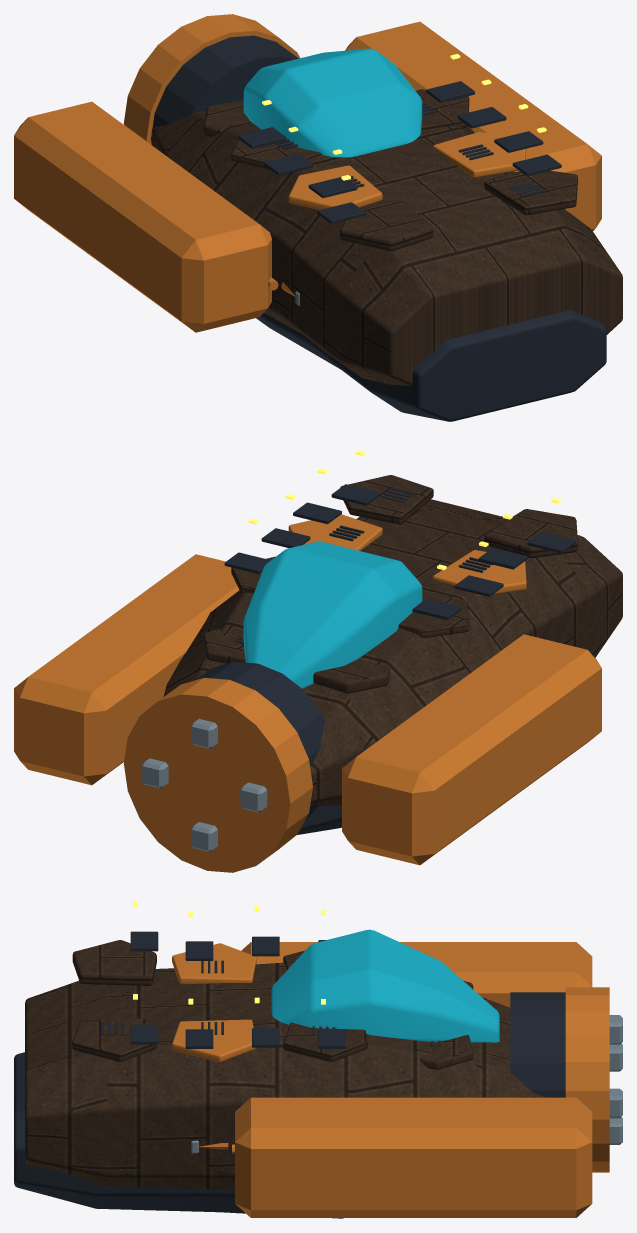
The model's file is titanforge.glb.
3 renders of one model, top to bottom at view 1: azimuth 30°, elevation 25°; view 2: azimuth 150°, elevation 25°; view 3: azimuth 270°, elevation 25°, orthographic. The views are drawn at different scales.
Parts seen in each view (by area): view 1: Gôndola do motor.055 · exportação, Coroa dentada · exportação, Cabeça escavadora · exportação, Cabine panorâmica.027 · exportação; view 2: Coroa dentada · exportação, Gôndola do motor.055 · exportação, Cabine panorâmica.027 · exportação, Cabeça escavadora · exportação, Dente de corte.003 · exportação; view 3: Coroa dentada · exportação, Gôndola do motor.055 · exportação, Cabine panorâmica.027 · exportação, Cabeça escavadora · exportação, Dente de corte.003 · exportação.
Part boxes in pixels (<box>): Gôndola do motor.055 · exportação: <box>151,89,622,385</box>; Coroa dentada · exportação: <box>14,14,601,332</box>; Cabeça escavadora · exportação: <box>151,35,606,421</box>; Cabine panorâmica.027 · exportação: <box>243,48,422,157</box>; Coroa dentada · exportação: <box>14,514,601,872</box>; Gôndola do motor.055 · exportação: <box>163,475,622,806</box>; Cabine panorâmica.027 · exportação: <box>243,541,422,688</box>; Cabeça escavadora · exportação: <box>195,484,575,834</box>; Dente de corte.003 · exportação: <box>141,719,267,852</box>; Coroa dentada · exportação: <box>172,942,609,1217</box>; Gôndola do motor.055 · exportação: <box>25,940,545,1189</box>; Cabine panorâmica.027 · exportação: <box>271,929,499,1042</box>; Cabeça escavadora · exportação: <box>14,931,565,1218</box>; Dente de corte.003 · exportação: <box>191,1015,622,1153</box>.
Size of the model in its own units: 42.64 by 23.52 by 55.08.
Materials: 7 (1 with a texture image).
